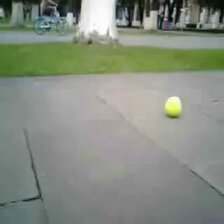tennis: (164, 96, 182, 118)
